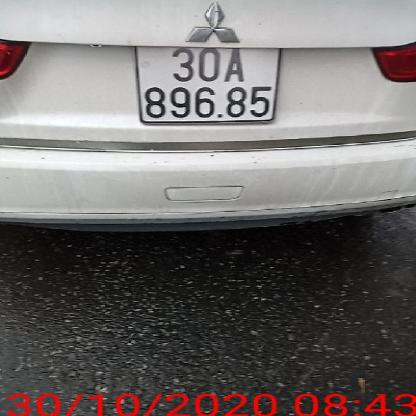biensoxe: (129, 46, 282, 125)
